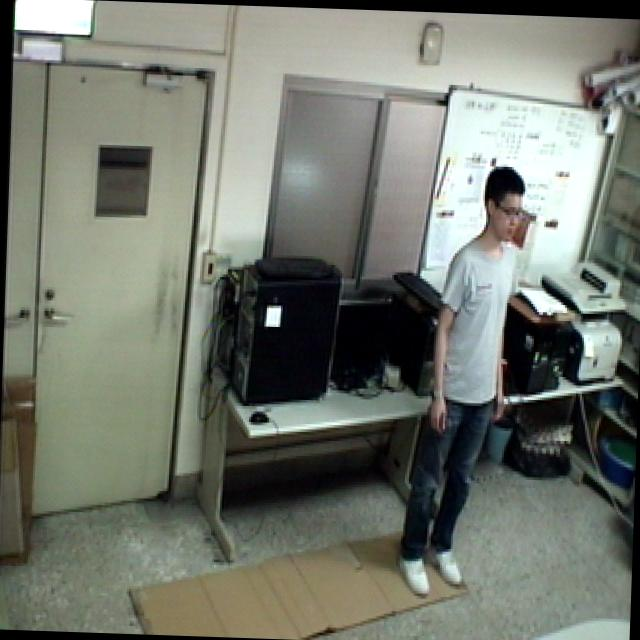stand: (384, 160, 532, 602)
